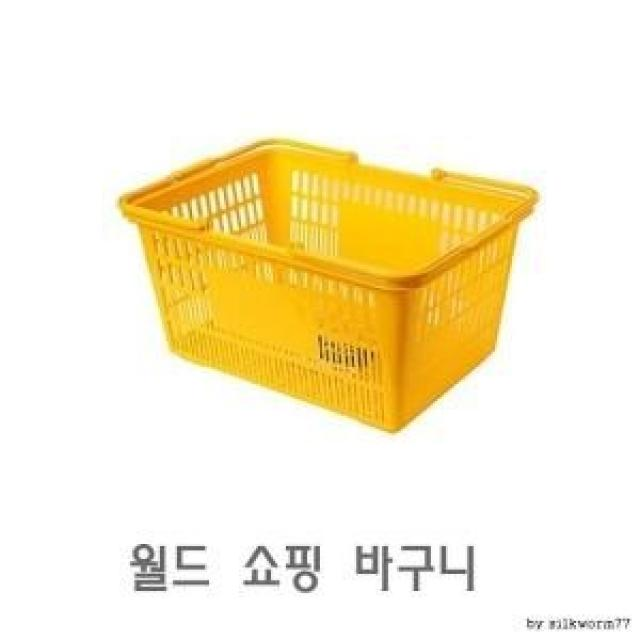basket: (87, 110, 542, 451)
